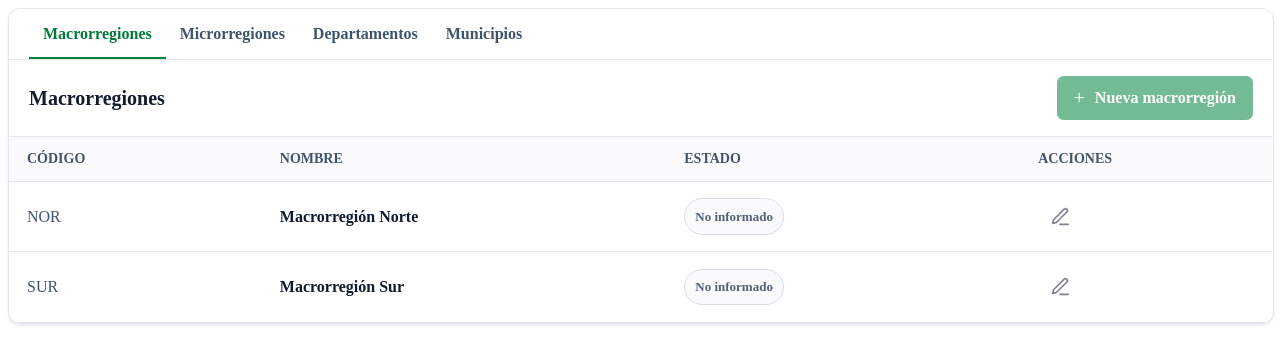
Scenario: GeographyHierarchy › filtra microrregiones por macrorregión y departamentos por microrregión
The image size is (1280, 343).
Click the button "Macrorregión Norte" at point(349, 216), box [280, 202, 418, 232]
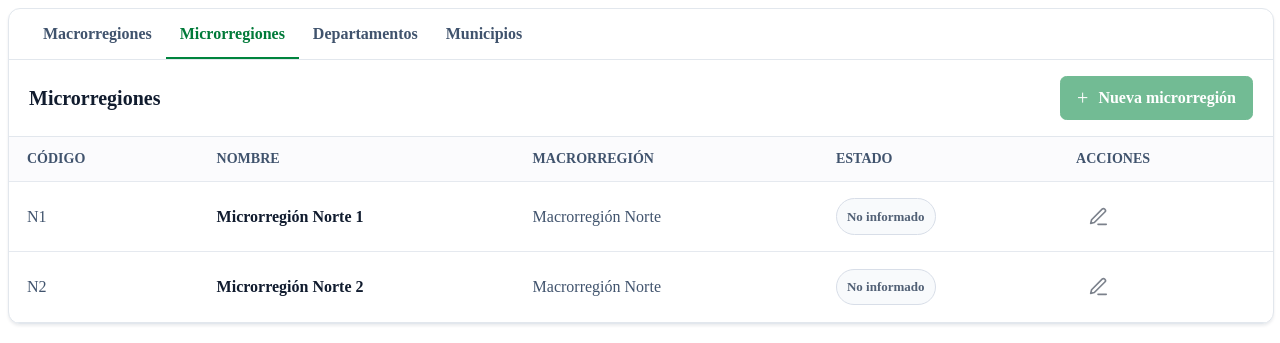
Expected: the table named "Microrregiones" is shown, [9, 137, 1273, 322]
Now the button "Microrregión Norte 1" is shown
Now the button "Microrregión Norte 2" is shown, box [217, 272, 364, 302]
Click the button "Microrregión Norte 1" at point(290, 216), box [217, 202, 364, 232]
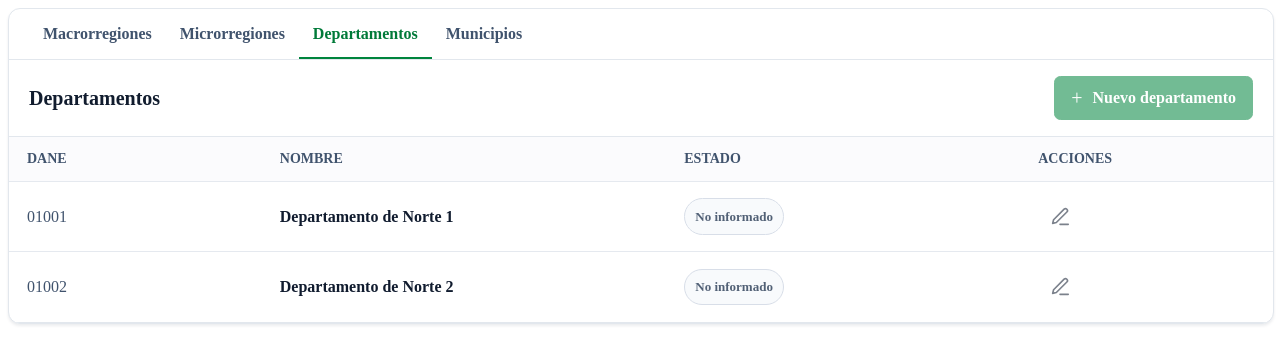
Now the button "Departamento de Norte 1" is shown, box [280, 202, 454, 232]
Now the button "Departamento de Norte 2" is shown, box [280, 272, 454, 302]
